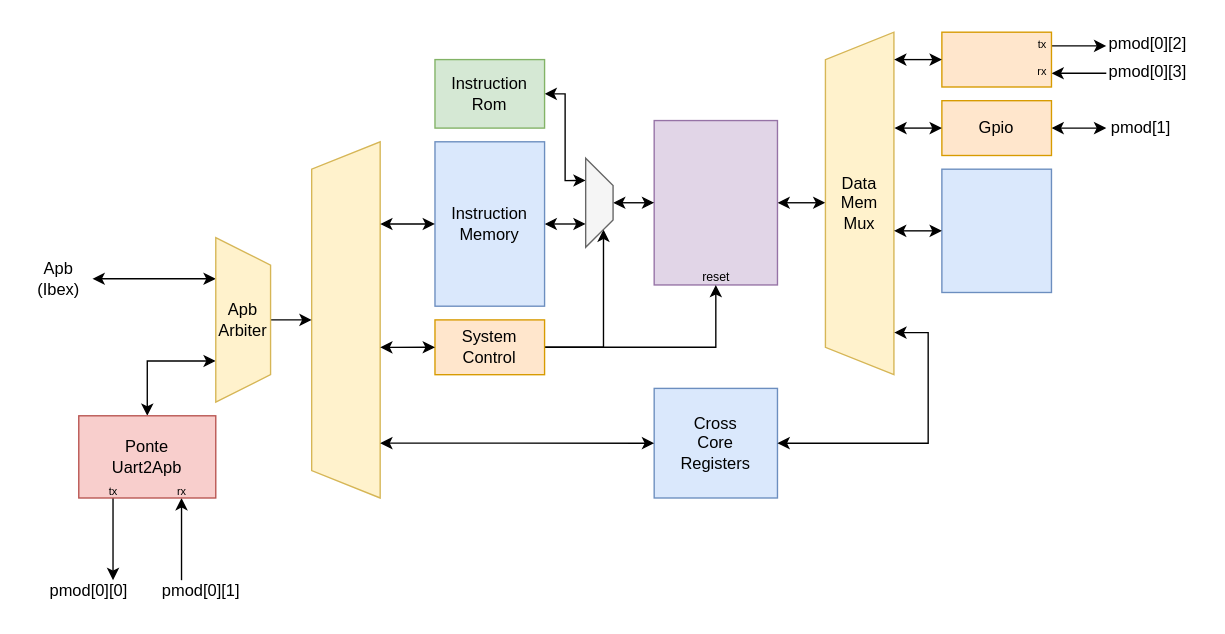
Image size: 1225x634. Some labels were removed from this diagram. Here are the shapes that lost their labels. From the top down, the box of each, then its label:
(941, 31, 1051, 87): Uart
(653, 119, 777, 285): Leros
(941, 168, 1051, 292): DataMem
(310, 140, 380, 498): Apb Mux
